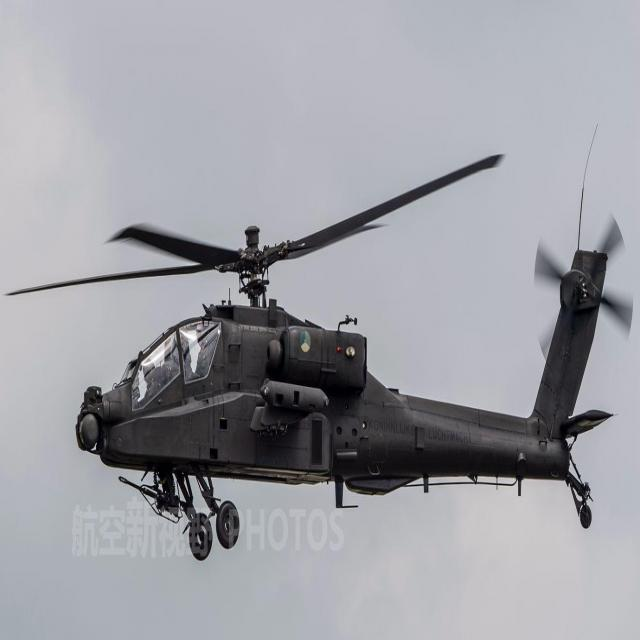MIL_HELO: (0, 118, 639, 576)
